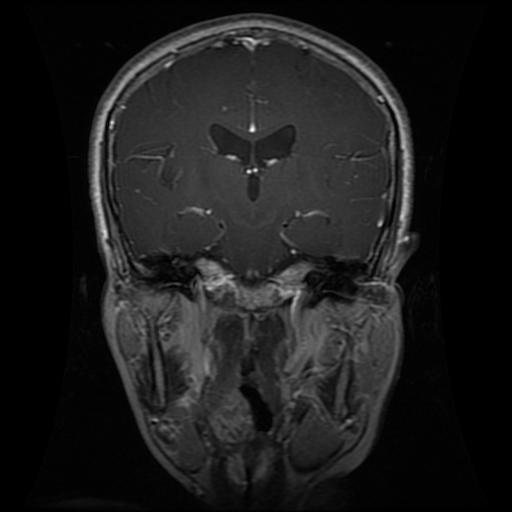Gliomia_tumour: (121, 138, 188, 189)
